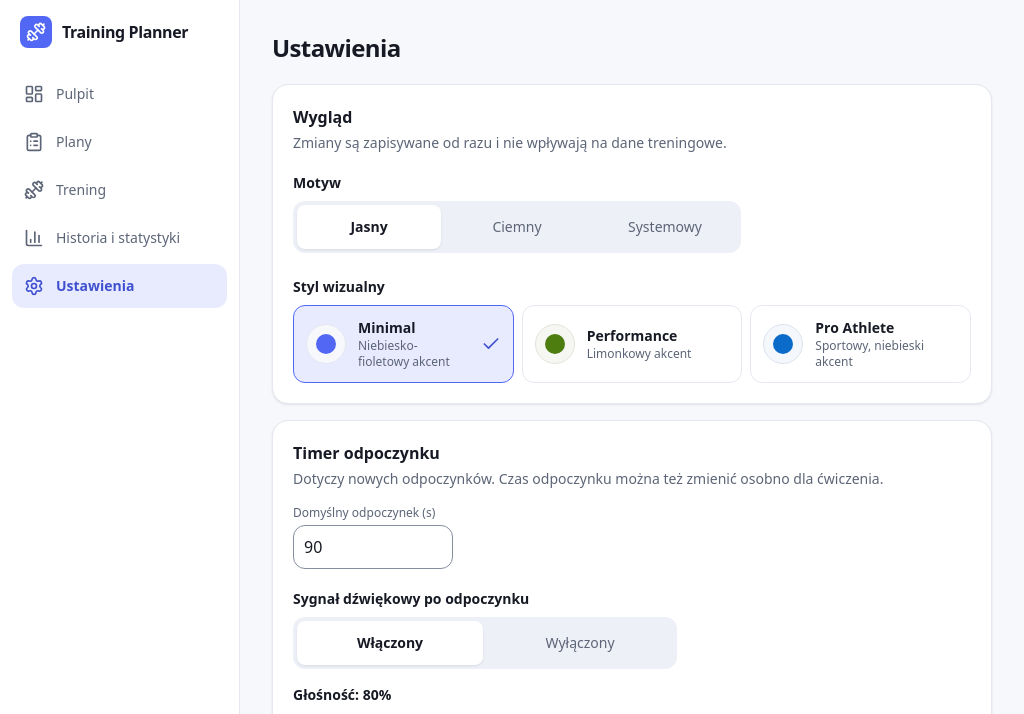
Test: App › reports a failed save and keeps the previous setting
Check: the heading "Ustawienia" is shown, box top-left (272, 31), bottom-right (401, 64)
Click the radio button labelled "Ciemny": (517, 227) top-left (445, 205), bottom-right (589, 249)
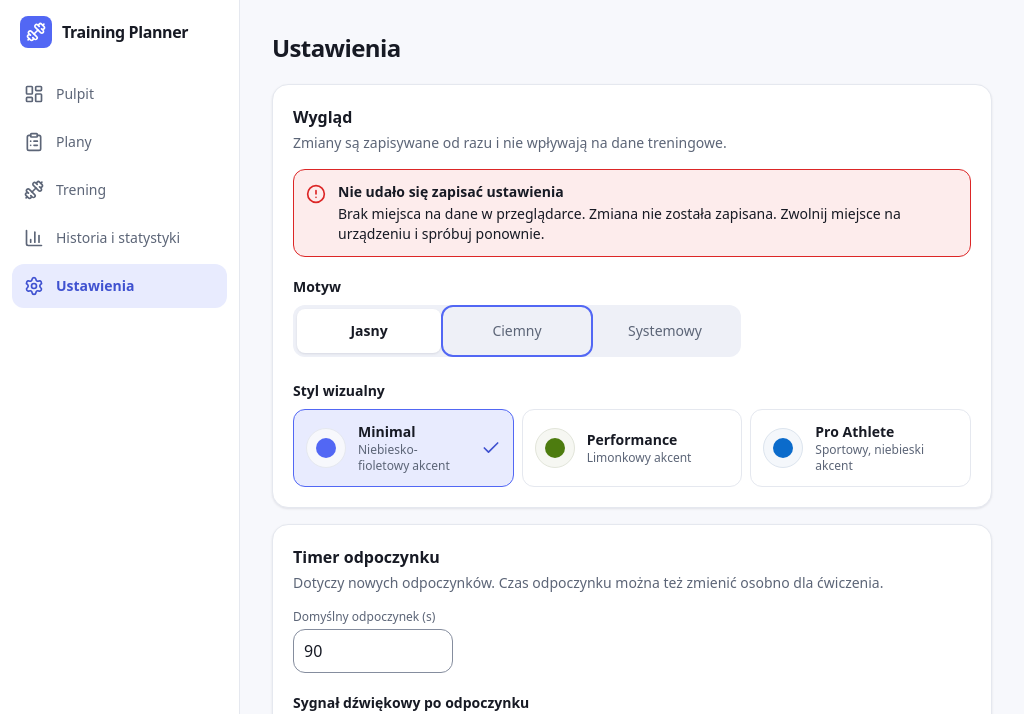
Check: the radio button labelled "Jasny" is checked, box top-left (297, 309), bottom-right (441, 353)
Check: the message shows "Nie udało się zapisać ustawienia", box top-left (338, 182), bottom-right (564, 201)
Check: the message shows "Brak miejsca na dane", box top-left (338, 204), bottom-right (901, 243)
